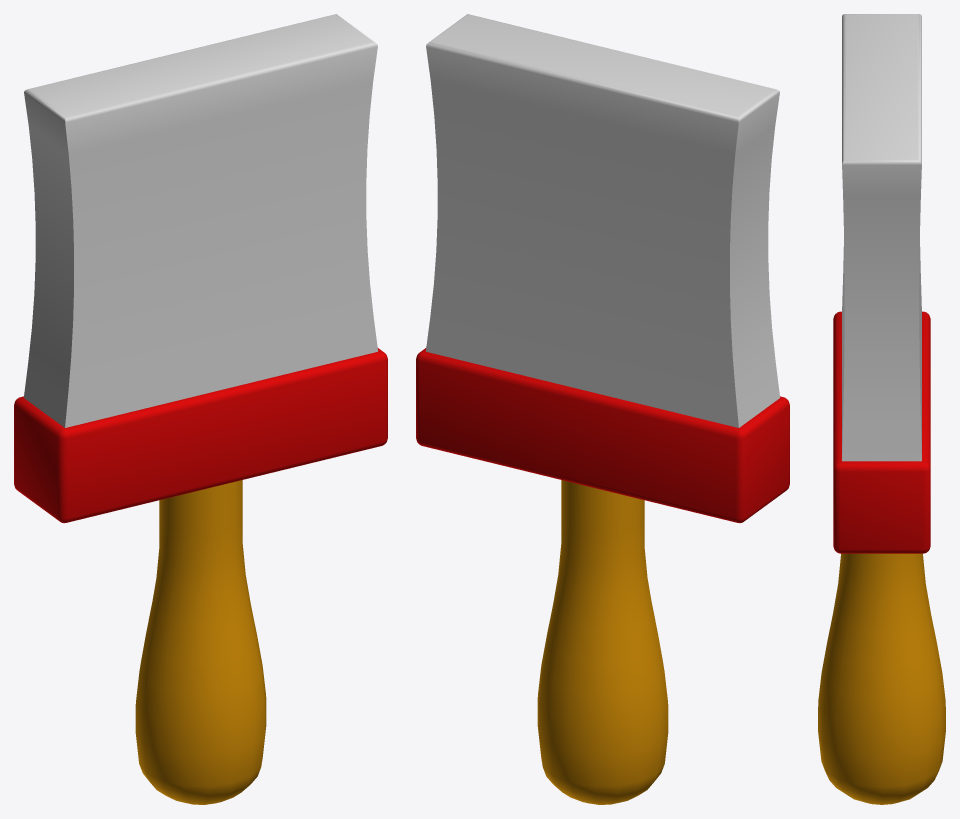
File: Brush.fbx
3 views of the same model, side by side, from view 1: azimuth 30°, elevation 25°; view 2: azimuth 150°, elevation 25°; view 3: azimuth 270°, elevation 25° (orthographic). The views are drawn at different scales.
Visible parts, largest first — view 1: Paintbrush.001, Paintbrush; view 2: Paintbrush.001, Paintbrush; view 3: Paintbrush, Paintbrush.001.
Part boxes in pixels (x1=…): Paintbrush.001: x1=23, y1=14, x2=377, y2=427; Paintbrush: x1=14, y1=348, x2=387, y2=804; Paintbrush.001: x1=426, y1=14, x2=780, y2=427; Paintbrush: x1=416, y1=348, x2=789, y2=804; Paintbrush: x1=818, y1=311, x2=945, y2=804; Paintbrush.001: x1=842, y1=14, x2=921, y2=461.
Bounding box in the file's own units: 249 × 530 × 86.3.
